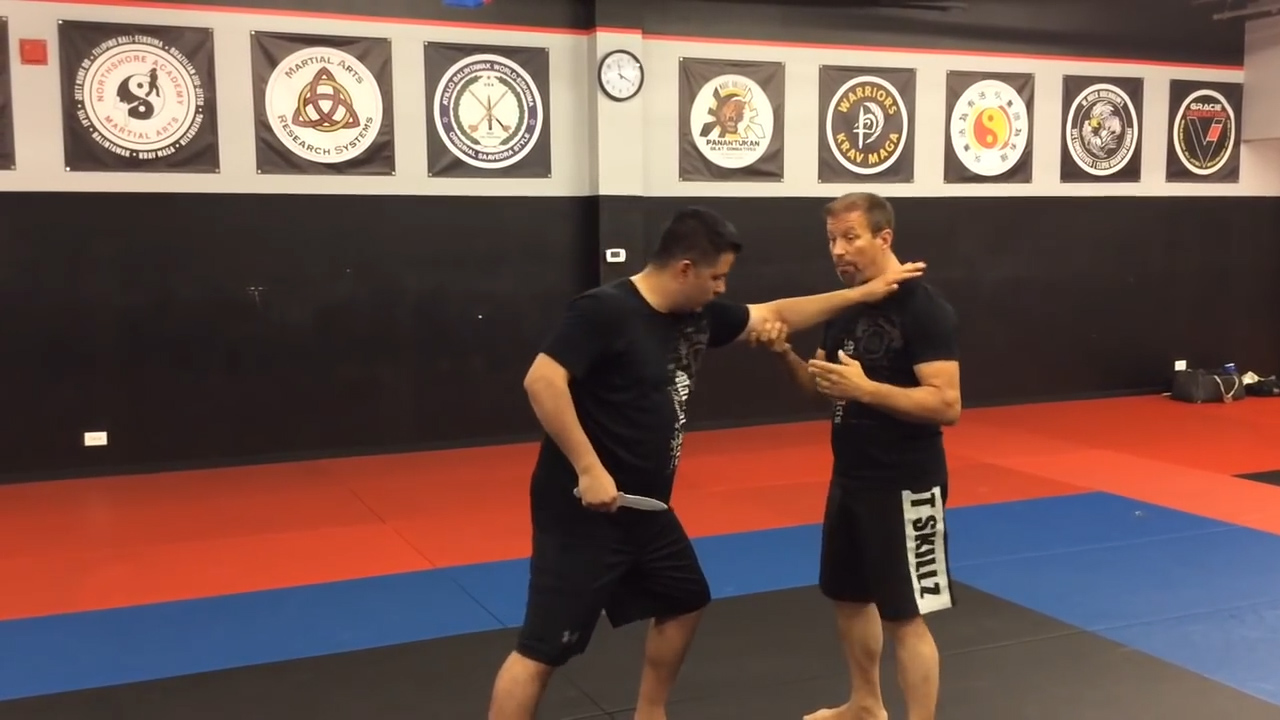knife: (571, 479, 673, 515)
